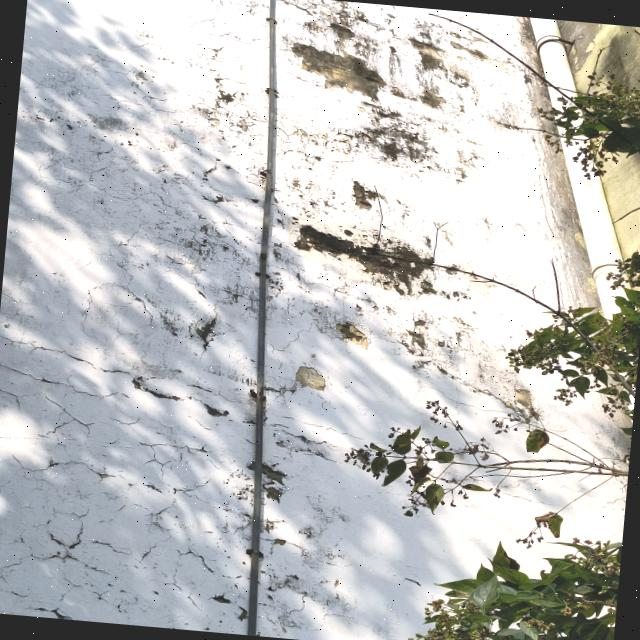stain_mould: (258, 0, 631, 640), (0, 0, 268, 634)
